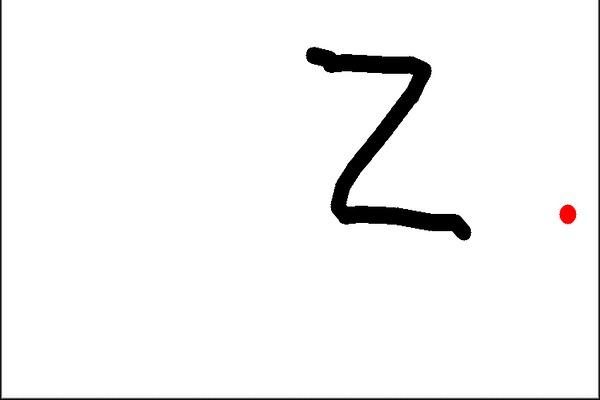Z: (301, 42, 482, 244)
